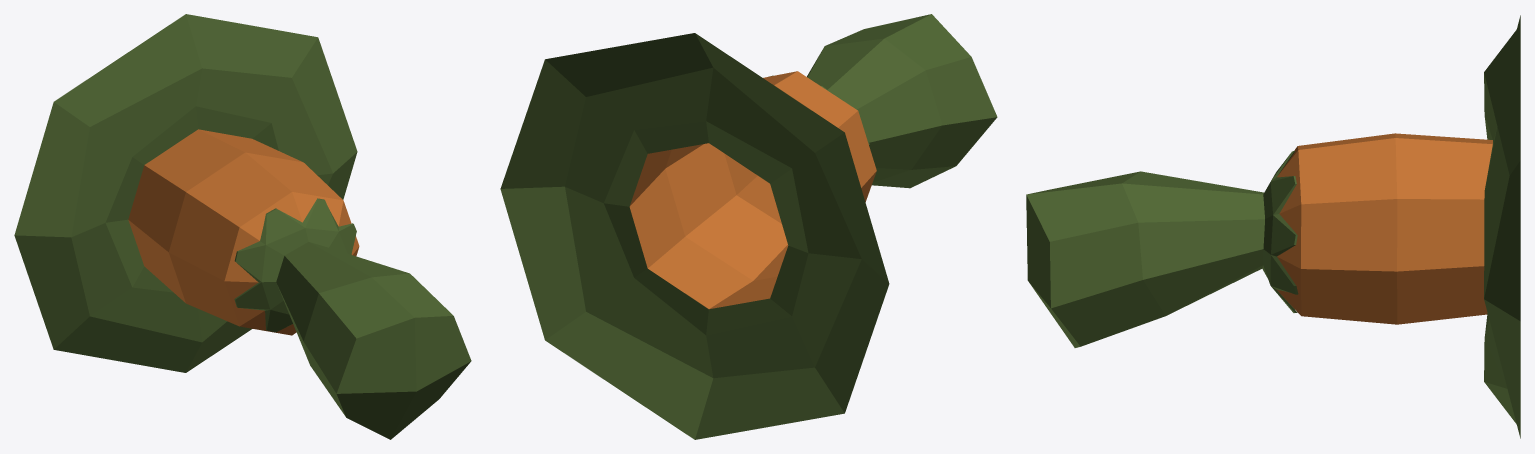
The model's file is Carrot1_P.fbx.
3 views of the same model, side by side, from view 1: azimuth 30°, elevation 25°; view 2: azimuth 150°, elevation 25°; view 3: azimuth 270°, elevation 25° (orthographic). The views are drawn at different scales.
Visible parts, largest first — view 1: Carrot1_P; view 2: Carrot1_P; view 3: Carrot1_P.
Boxes of the visible parts, x1=… form: Carrot1_P: x1=14, y1=14, x2=471, y2=439; Carrot1_P: x1=500, y1=14, x2=997, y2=439; Carrot1_P: x1=1026, y1=15, x2=1520, y2=438.
Size of the model in its own units: 0.5286 by 0.584 by 0.5286.
